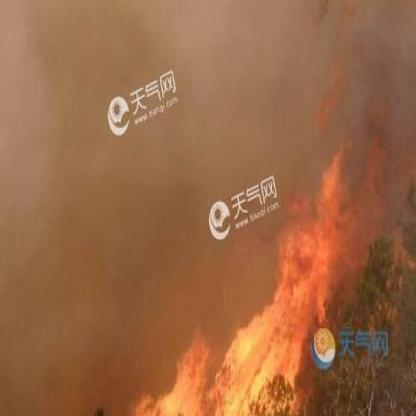fire: (110, 160, 372, 413)
smoke: (5, 2, 273, 352)
